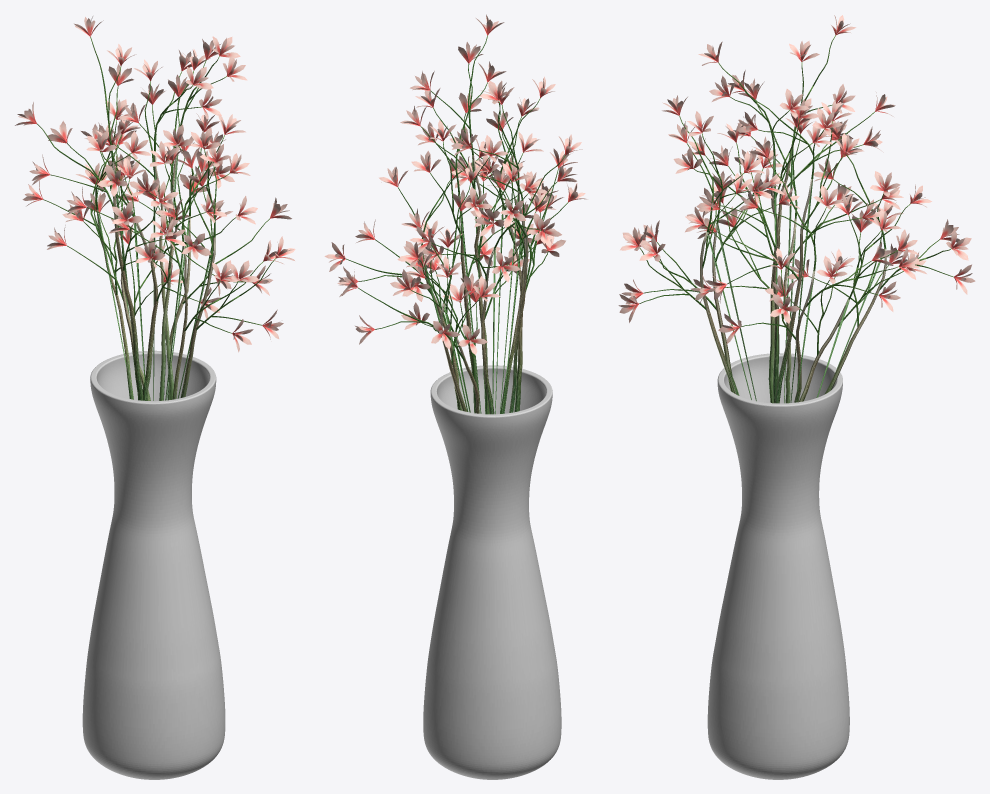
File: vase-optimized.glb
3 renders of one model, left to right at view 1: azimuth 30°, elevation 25°; view 2: azimuth 150°, elevation 25°; view 3: azimuth 270°, elevation 25°, orthographic. The views are drawn at different scales.
Visible parts, largest first — view 1: Vase_vase_0, plant_Petal_0, plant_Grass_0, plant_Stem_0; view 2: Vase_vase_0, plant_Petal_0, plant_Grass_0, plant_Stem_0; view 3: Vase_vase_0, plant_Petal_0, plant_Grass_0, plant_Stem_0.
Boxes of the visible parts, x1=… form: Vase_vase_0: x1=82, y1=350, x2=225, y2=779; plant_Petal_0: x1=15, y1=16, x2=295, y2=352; plant_Grass_0: x1=96, y1=146, x2=215, y2=400; plant_Stem_0: x1=37, y1=37, x2=275, y2=339; Vase_vase_0: x1=423, y1=365, x2=561, y2=779; plant_Petal_0: x1=324, y1=14, x2=587, y2=354; plant_Grass_0: x1=423, y1=155, x2=528, y2=414; plant_Stem_0: x1=346, y1=35, x2=568, y2=380; Vase_vase_0: x1=707, y1=353, x2=849, y2=779; plant_Petal_0: x1=618, y1=15, x2=975, y2=344; plant_Grass_0: x1=700, y1=144, x2=886, y2=403; plant_Stem_0: x1=639, y1=35, x2=953, y2=356.
Size of the model in its own units: 0.4146 by 1.26 by 0.5496.
4 materials, 3 textured.
